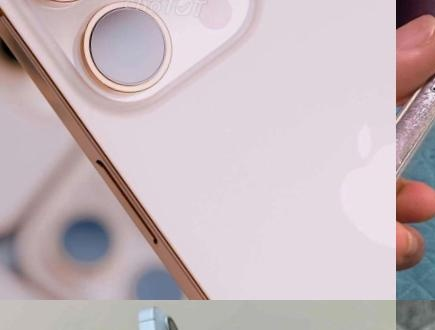scratch: (396, 88, 435, 148), (417, 23, 435, 94)
